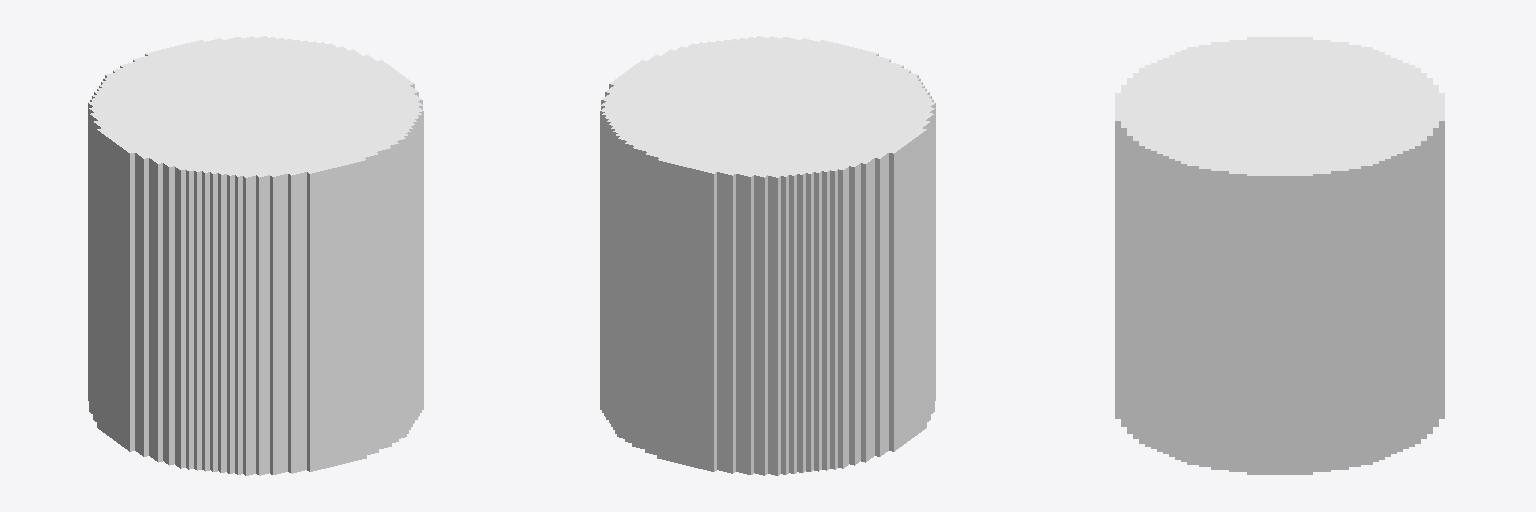
The model's file is Potion1T.obj.
3 views of the same model, side by side, from view 1: azimuth 30°, elevation 25°; view 2: azimuth 150°, elevation 25°; view 3: azimuth 270°, elevation 25° (orthographic).
Visible parts, largest first — view 1: object 1; view 2: object 1; view 3: object 1.
Part boxes in pixels (x1,y1,x2,y2): object 1: (88,36,423,475); object 1: (600,36,935,475); object 1: (1115,37,1444,474).
Size of the model in its own units: 5.5 by 5.5 by 5.5.